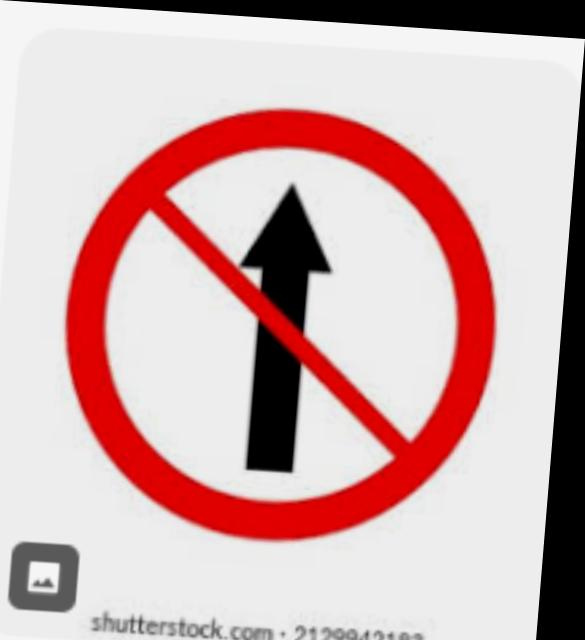not_go_straight: (57, 89, 518, 553)
